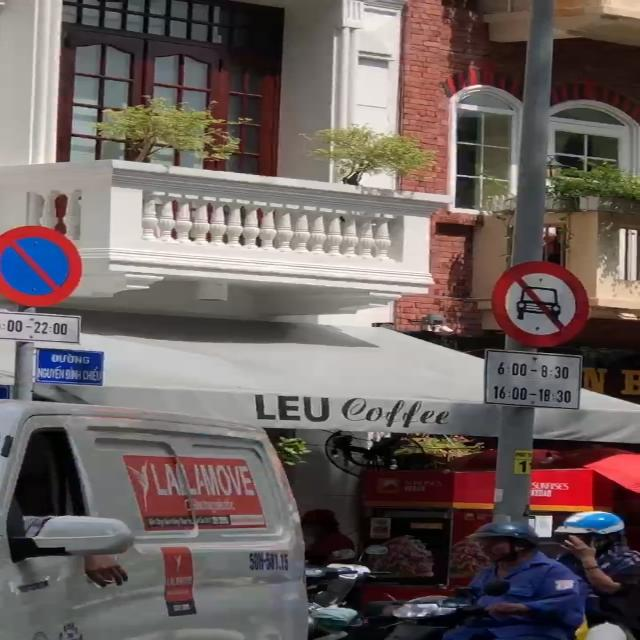Bien bao cam do xe: (0, 217, 87, 311)
Bien bao cam xe oto: (481, 252, 601, 349)
